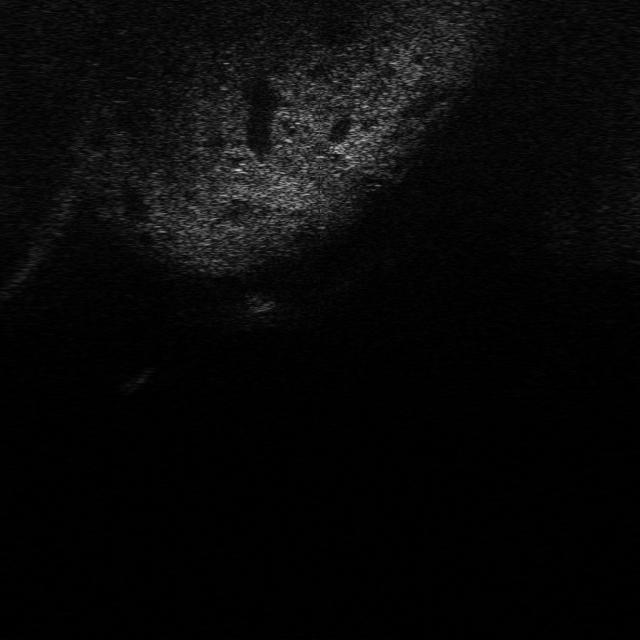cube: (236, 288, 278, 319)
cylinder: (114, 364, 157, 396)
